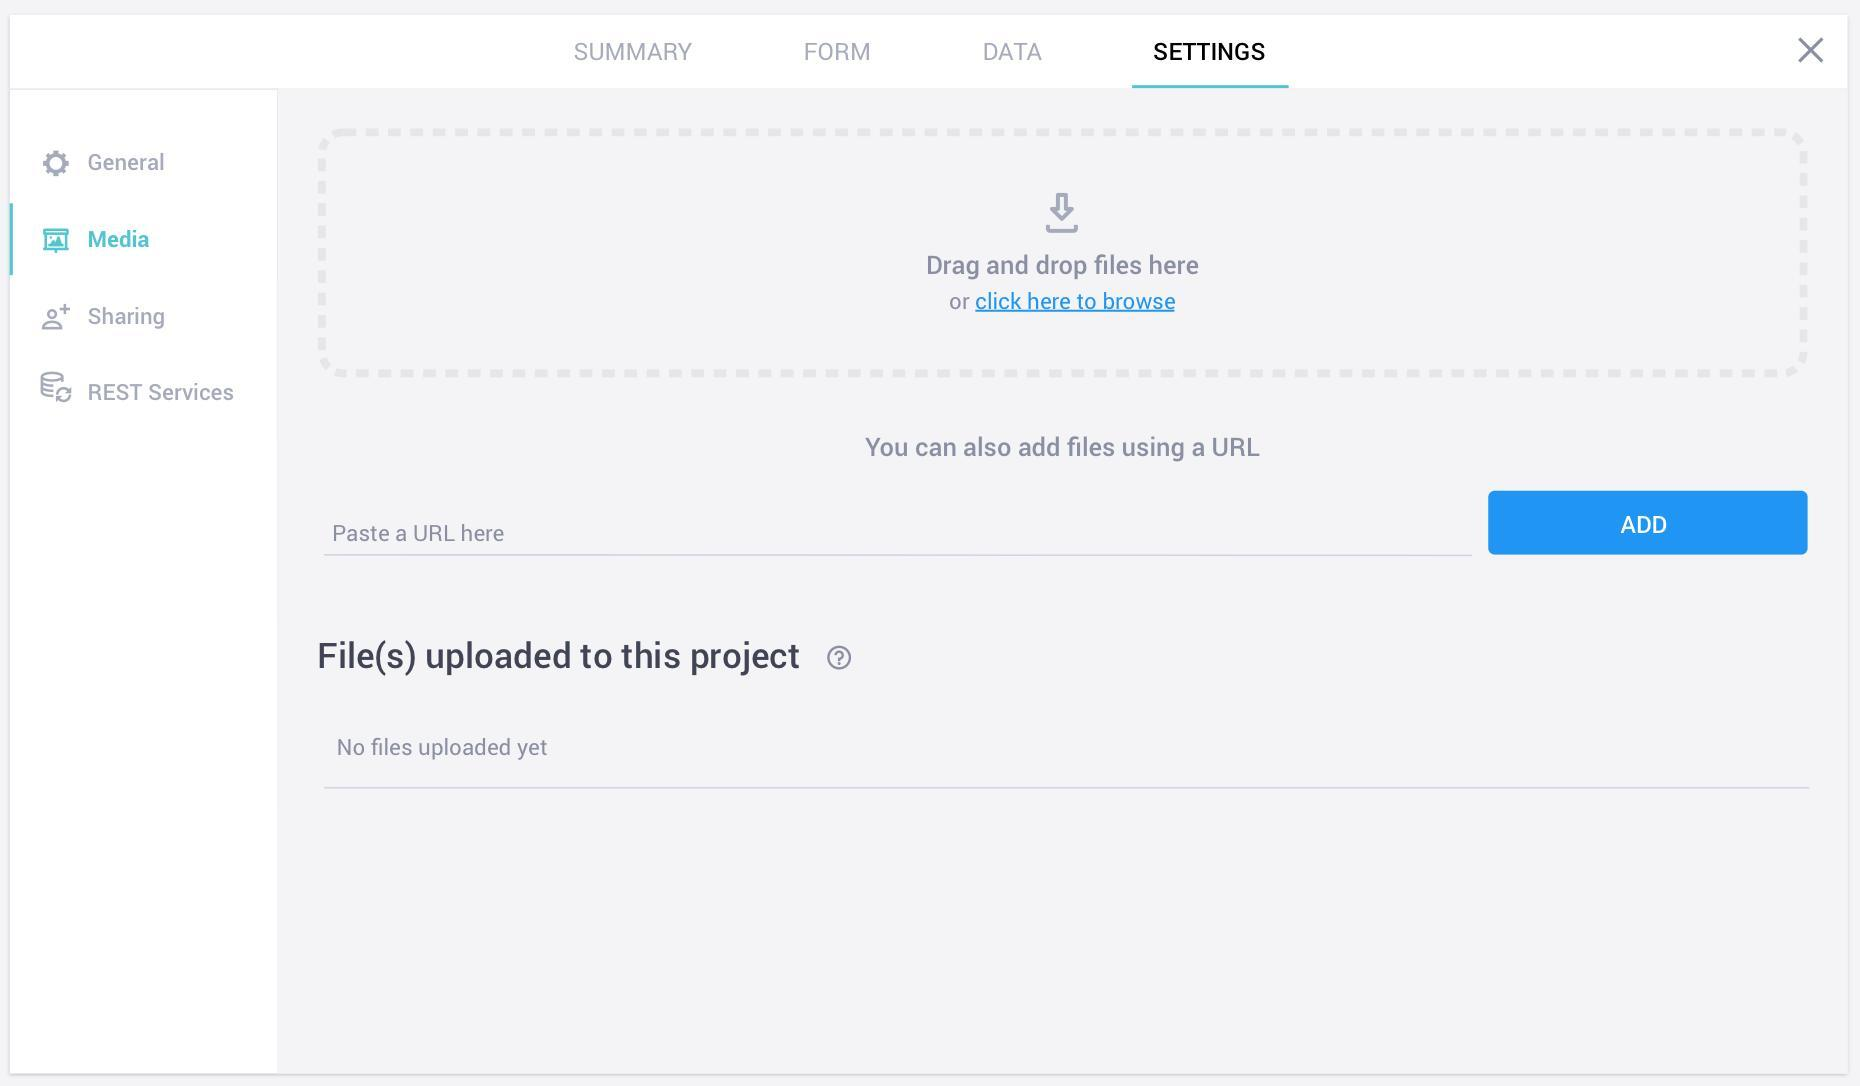button: (1489, 487, 1811, 556)
icon: (37, 370, 78, 407), (1791, 34, 1832, 70), (40, 228, 76, 259), (41, 303, 72, 334), (41, 150, 72, 178)
label: (85, 381, 237, 409), (1152, 37, 1274, 69), (570, 37, 695, 66), (90, 303, 171, 334), (88, 150, 171, 177), (801, 37, 874, 69), (85, 225, 153, 255), (978, 41, 1047, 67)
